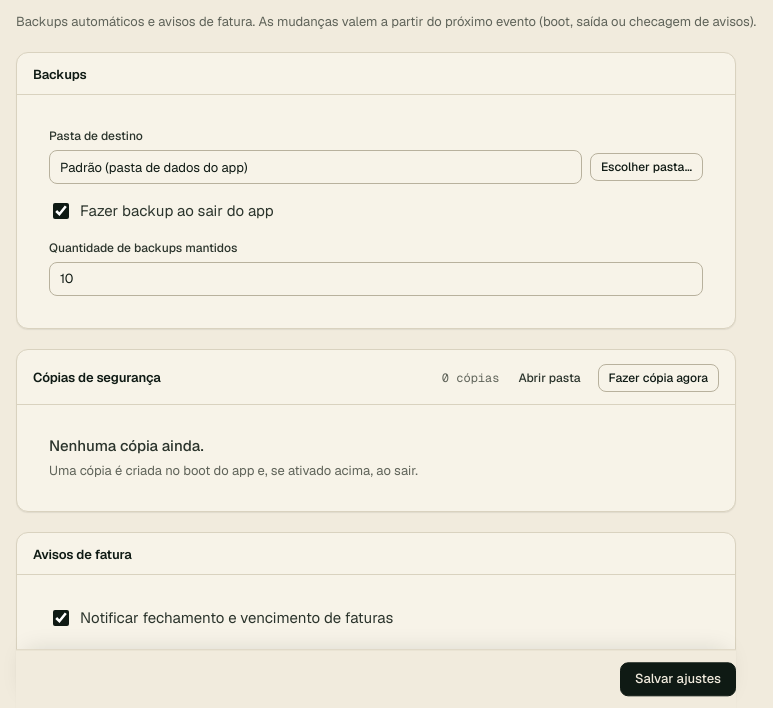
Test: AjustesPage › escolher pasta atualiza o campo com o caminho retornado
expect the number field labelled "Quantidade de backups mantidos" holds "10": met, box [49,262,703,296]
Click the button "Escolher pasta…" at (646, 167), box [590,153,703,181]
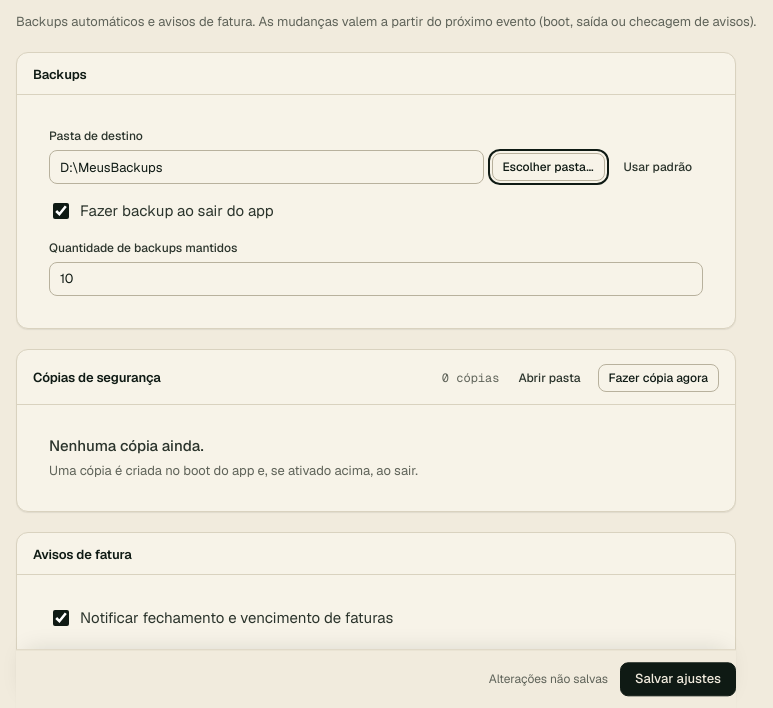
expect the field named "Pasta de backups" holds "D:\\MeusBackups": met, box [49,150,484,184]
